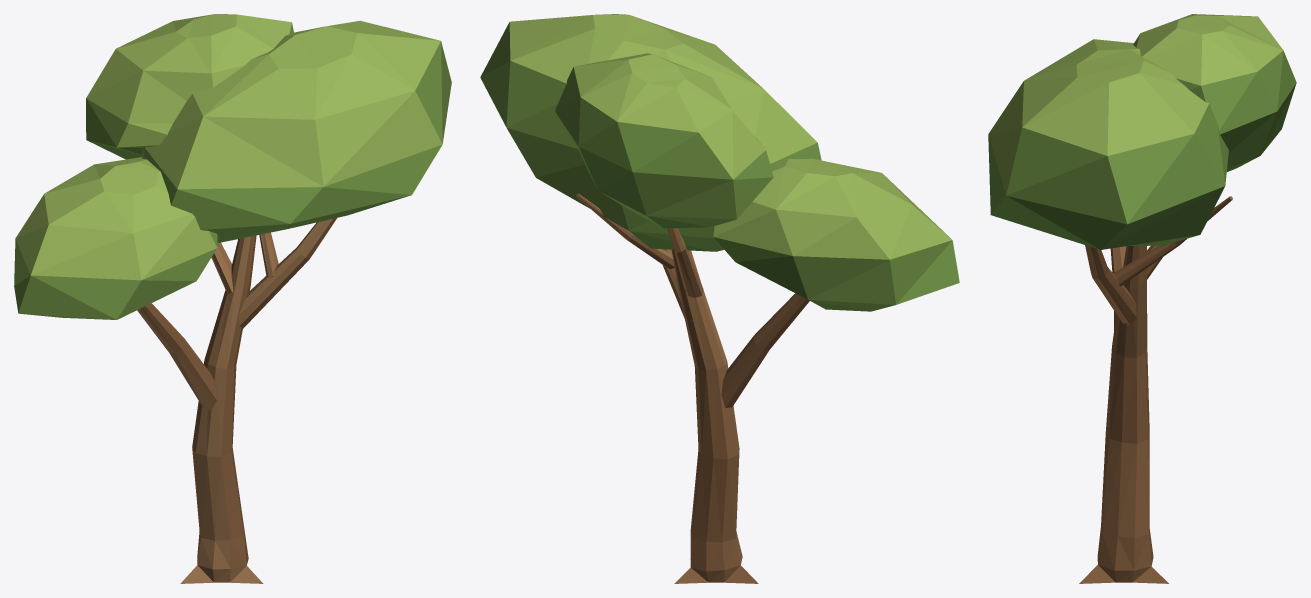
3 views of the same model, side by side, from view 1: azimuth 30°, elevation 25°; view 2: azimuth 150°, elevation 25°; view 3: azimuth 270°, elevation 25° (orthographic). The views are drawn at different scales.
Visible parts, largest first — view 1: nature-umbrella-broadleaf-01; view 2: nature-umbrella-broadleaf-01; view 3: nature-umbrella-broadleaf-01.
Boxes of the visible parts, box(x1,y1,x2,y2) form: nature-umbrella-broadleaf-01: box(14, 14, 451, 583); nature-umbrella-broadleaf-01: box(480, 14, 959, 583); nature-umbrella-broadleaf-01: box(988, 14, 1296, 583).
Bounding box in the file's own units: 4.56 × 5.01 × 2.48.
